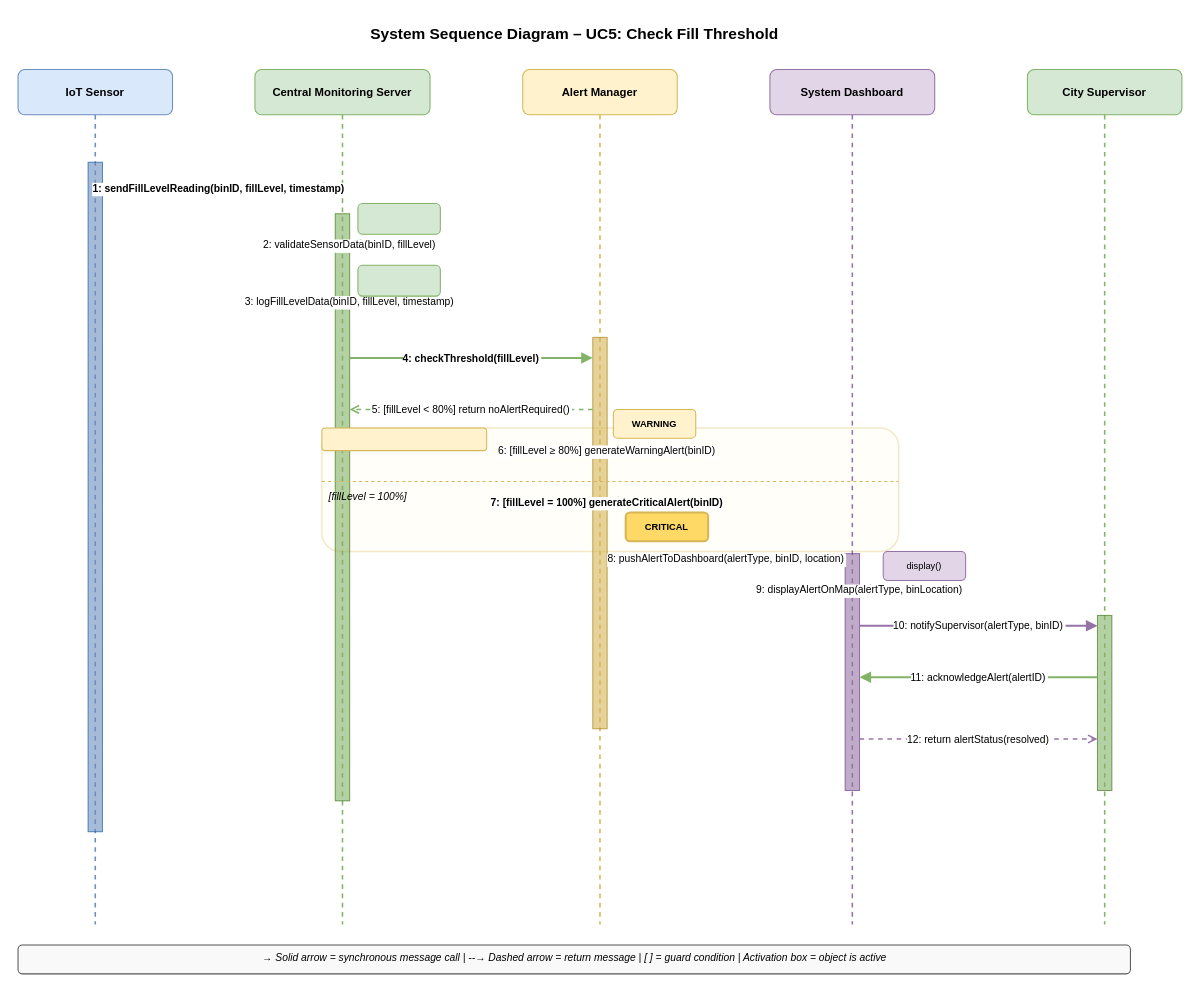
Some shapes in this 1200 by 992 pixel diagram are drawn without their labels. Each missing label, with the centre of its shape:
alt [fillLevel ≥ 80%]: the point at 404,439
logData(): the point at 398,280
validate(): the point at 398,218
